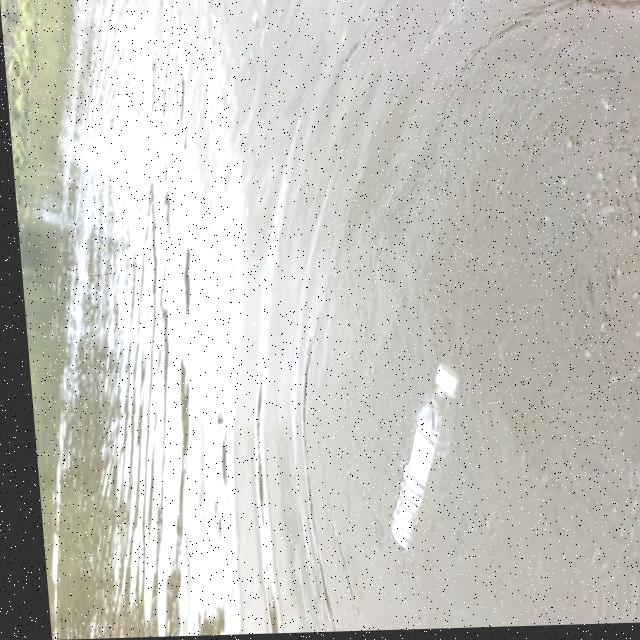waterbottle: (355, 357, 475, 564)
